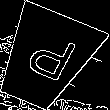P_SW: (14, 29, 77, 89)
